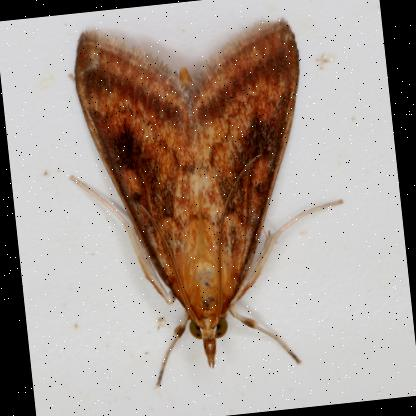Asian Corn Borer Moth: (52, 2, 364, 396)
